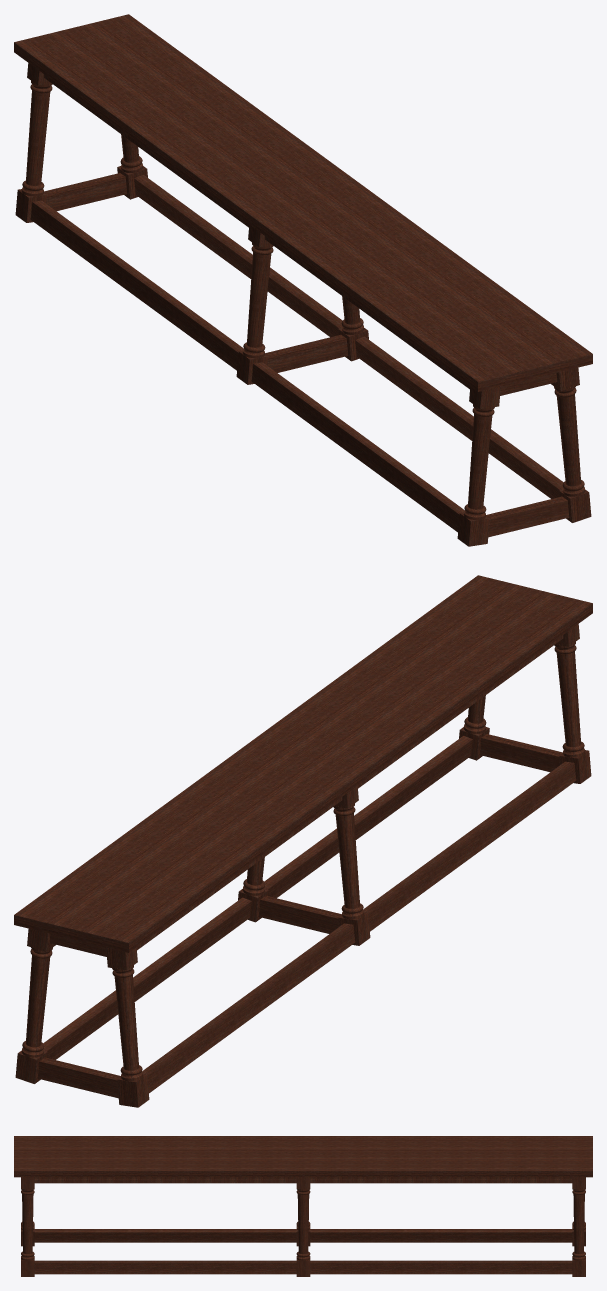
The picture shows the model from 3 angles, top to bottom: view 1: azimuth 30°, elevation 25°; view 2: azimuth 150°, elevation 25°; view 3: azimuth 270°, elevation 25°; orthographic projection. The views are drawn at different scales.
Parts seen in each view (by area): view 1: Mesh21_Model.001; view 2: Mesh21_Model.001; view 3: Mesh21_Model.001.
Part boxes in pixels (x1,y1,x2,y2): Mesh21_Model.001: [14, 14, 592, 546]; Mesh21_Model.001: [14, 575, 592, 1107]; Mesh21_Model.001: [14, 1136, 592, 1276].
Size of the model in its own units: 0.153 by 0.202 by 1.
Materials: 2 (2 with a texture image).
